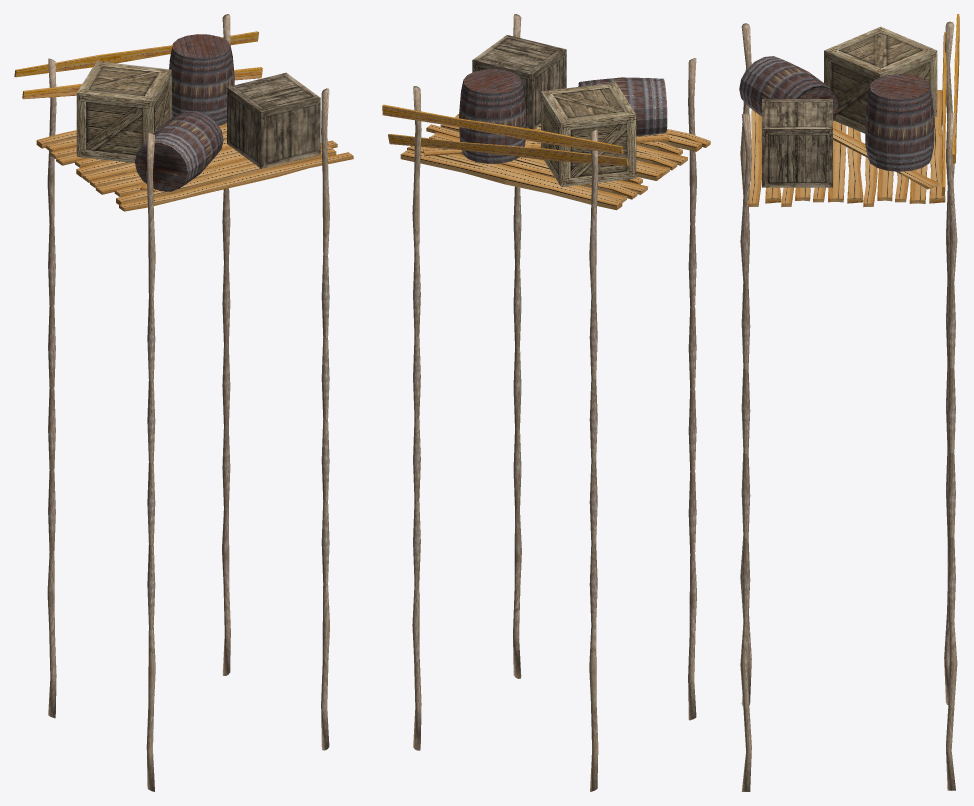
The model's file is impalcatura1.obj.
3 views of the same model, side by side, from view 1: azimuth 30°, elevation 25°; view 2: azimuth 150°, elevation 25°; view 3: azimuth 270°, elevation 25° (orthographic). The views are drawn at different scales.
Parts seen in each view (by area): view 1: impalcatura1_Cube.000; view 2: impalcatura1_Cube.000; view 3: impalcatura1_Cube.000.
Boxes of the visible parts, <box> form: impalcatura1_Cube.000: <box>14,14,353,791</box>; impalcatura1_Cube.000: <box>382,14,710,791</box>; impalcatura1_Cube.000: <box>739,14,959,791</box>.
Bounding box in the file's own units: 7.24 × 18.98 × 5.56.
